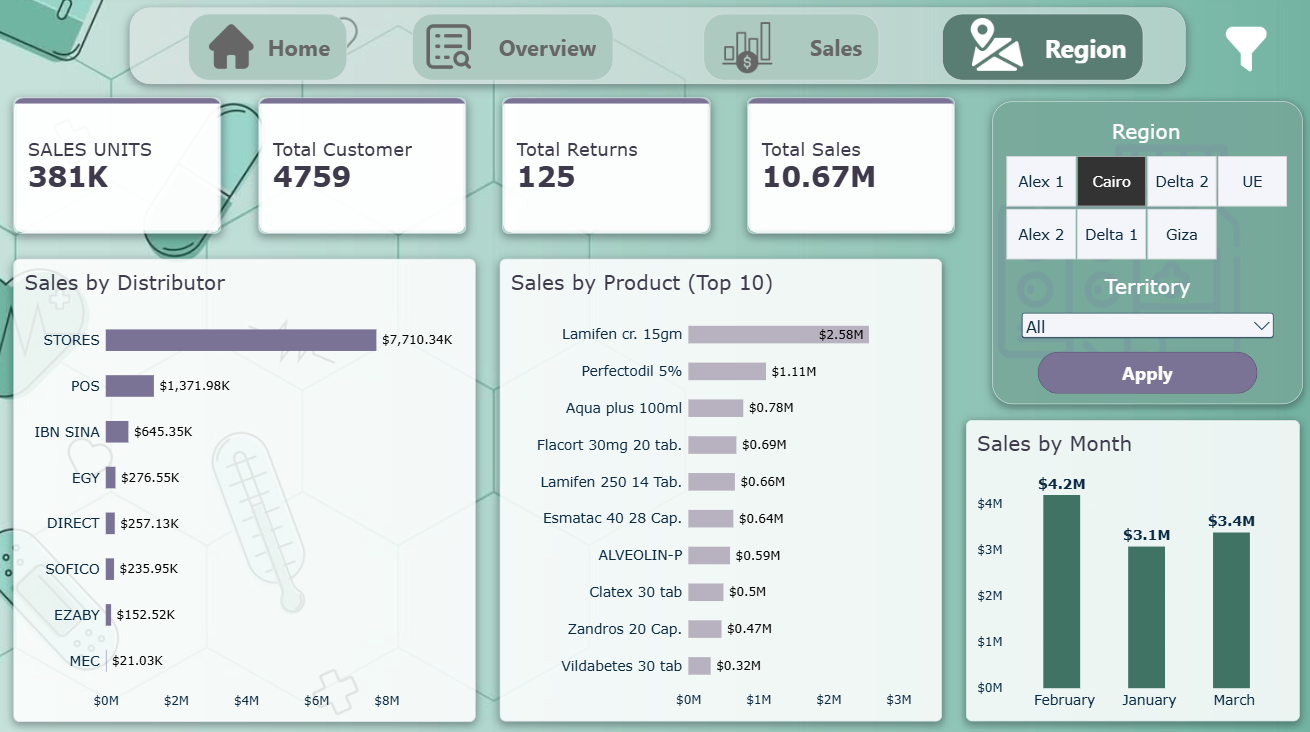

The dashboard page shown, as its layout file describes it:
{"tool":"powerbi","page":{"name":"Region","canvas":[1920,1080],"ordinal":3},"visuals":[{"type":"image","box":[1409.9,195.2,444.7,381.7],"z":0},{"type":"cardVisual","fields":{"Data":["Table of Measures.Total Sales"]},"box":[1091,149.7,301.5,197.4],"z":1000},{"type":"cardVisual","fields":{"Data":["Table of Measures.Total Returns"]},"box":[735.3,149.7,302.6,197.6],"z":2000},{"type":"cardVisual","fields":{"Data":["Sum(Sales.SALES UNITS)"]},"box":[26,149.7,301.5,197.4],"z":3000},{"type":"cardVisual","fields":{"Data":["Count(Sales.CUSTOMER NAME)"]},"box":[380.7,149.7,301.5,197.4],"z":4000},{"type":"shape","box":[193.5,18.5,1533.5,111.1],"z":5000},{"type":"shape","box":[279.9,26.8,230.5,96.7],"z":6000},{"type":"shape","box":[603.8,26.8,292.3,96.7],"z":7000},{"type":"shape","box":[1027.1,26.8,255.2,96.7],"z":8000},{"type":"shape","box":[1375,26.8,292.3,96.7],"z":9000},{"type":"image","box":[286.1,26.8,109.1,94.7],"z":10000},{"type":"image","box":[1387.3,18.5,133.8,107],"z":11000},{"type":"image","box":[1027.1,22.6,127.6,109.1],"z":12000},{"type":"image","box":[603.1,26.8,109.1,94.7],"z":13000},{"type":"clusteredColumnChart","title":"Sales by Month","fields":{"Category":["Sales.Month Name"],"Y":["Table of Measures.Total Sales"]},"box":[1409,617.4,484.8,437.6],"z":14000},{"type":"clusteredBarChart","title":"Sales by Product (Top 10)","fields":{"Category":["Sales.EGPI Product Name"],"Y":["Table of Measures.Total Sales"]},"box":[731.7,383.1,642.8,671.8],"z":18000},{"type":"barChart","title":"Sales by Distributor","fields":{"Category":["Sales.DISTRIBUTOR"],"Y":["Table of Measures.Total Sales"]},"box":[26,383.9,671,673.1],"z":19000},{"type":"image","title":"Filter","box":[1761.3,34.7,109.1,94.7],"z":22000}]}

Visuals, with their boxes in screenshot pixels (x1, y1, x2, y2), scaled from the page's 1920x1080 canvas onto the 1310x732 screenshot:
image: bbox(962, 132, 1265, 391)
cardVisual - Table of Measures.Total Sales: bbox(744, 101, 950, 235)
cardVisual - Table of Measures.Total Returns: bbox(502, 101, 708, 235)
cardVisual - Sum(Sales.SALES UNITS): bbox(18, 101, 223, 235)
cardVisual - Count(Sales.CUSTOMER NAME): bbox(260, 101, 465, 235)
shape: bbox(132, 13, 1178, 88)
shape: bbox(191, 18, 348, 84)
shape: bbox(412, 18, 611, 84)
shape: bbox(701, 18, 875, 84)
shape: bbox(938, 18, 1138, 84)
image: bbox(195, 18, 270, 82)
image: bbox(947, 13, 1038, 85)
image: bbox(701, 15, 788, 89)
image: bbox(411, 18, 486, 82)
"Sales by Month" clusteredColumnChart: bbox(961, 418, 1292, 715)
"Sales by Product (Top 10)" clusteredBarChart: bbox(499, 260, 938, 715)
"Sales by Distributor" barChart: bbox(18, 260, 476, 716)
"Filter" image: bbox(1202, 24, 1276, 88)
